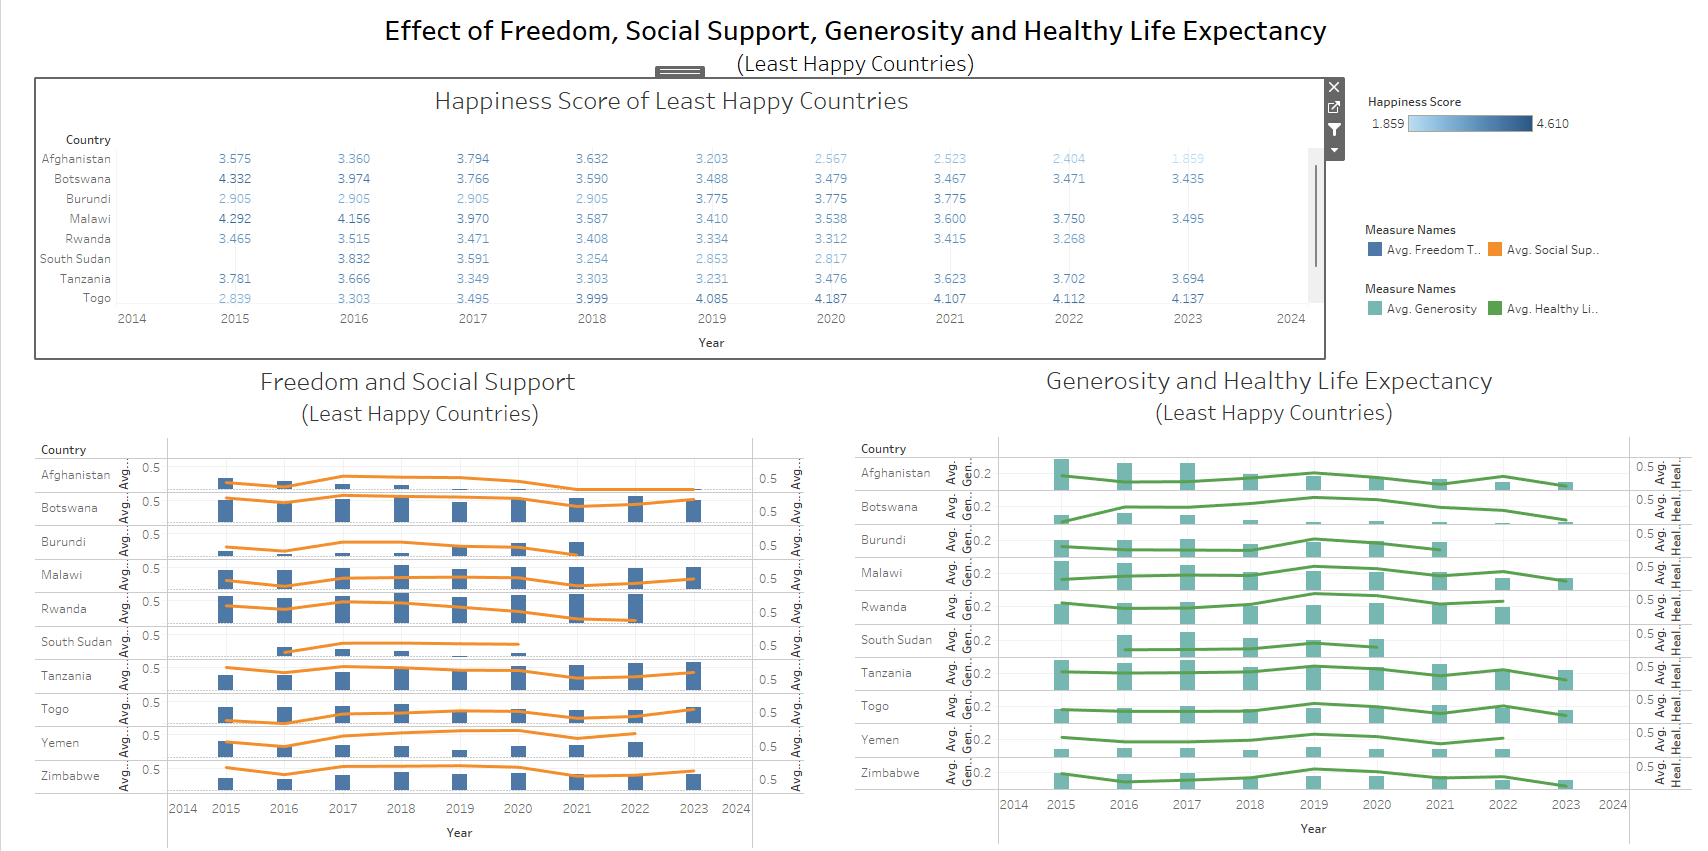

The page's visual inventory and layout, read from the dashboard file:
{"tool":"tableau","page":{"name":"Other Factors Least Happy","canvas":[1000,1000],"units":"permille","ordinal":2},"visuals":[{"type":"title","box":[6.9,8,986.2,74]},{"type":"worksheet","title":"Bottom 10","mark":"Text","rows":["country"],"cols":["year"],"box":[20.7,93,753.6,326]},{"type":"legend","title":"Bottom 10","param":"[federated.1nnb5s81987nmd13ryej518t1e0h].[sum:happiness_score:qk]","box":[799.7,110,120.4,76]},{"type":"legend","title":"Freedom and Support 2","param":"[federated.1nnb5s81987nmd13ryej518t1e0h].[:Measure Names]","box":[798.4,259,192,58]},{"type":"legend","title":"Generosity and Life Expectancy 2","param":"[federated.1nnb5s81987nmd13ryej518t1e0h].[:Measure Names]","box":[798.4,328,163.1,58]},{"type":"worksheet","title":"Generosity and Life Expectancy 2","mark":"Automatic","rows":["country","generosity","healthy_life_expectancy"],"cols":["year"],"box":[499.6,421,490.1,569]},{"type":"worksheet","title":"Freedom and Support 2","mark":"Automatic","rows":["country","freedom_to_make_life_choices","social_support"],"cols":["year"],"box":[19.8,422,450.5,571]}]}

Visuals, with their boxes on the dashboard's canvas, which has no fixed pixel size, in thousandths of its width and height (x1, y1, x2, y2). These are canvas units, not pixel positions in the 1708x851 screenshot, which may show the page scaled, cropped or inside an application window:
title: bbox(7, 8, 993, 82)
"Bottom 10" worksheet (Text marks): bbox(21, 93, 774, 419)
"Bottom 10" legend: bbox(800, 110, 920, 186)
"Freedom and Support 2" legend: bbox(798, 259, 990, 317)
"Generosity and Life Expectancy 2" legend: bbox(798, 328, 962, 386)
"Generosity and Life Expectancy 2" worksheet: bbox(500, 421, 990, 990)
"Freedom and Support 2" worksheet: bbox(20, 422, 470, 993)
